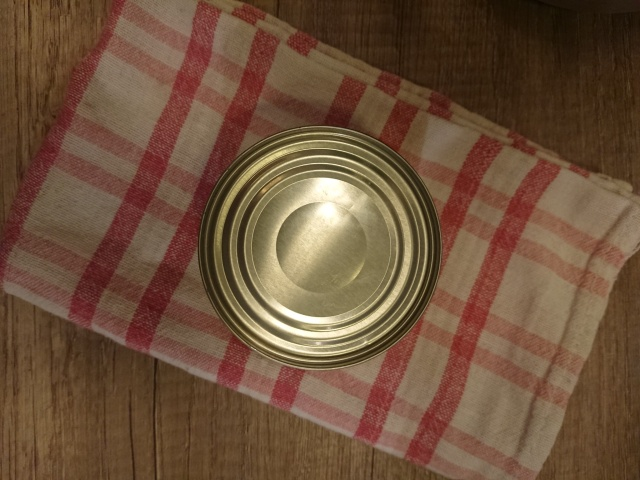Podravka Luncheon Meat 150g: (194, 122, 444, 374)
